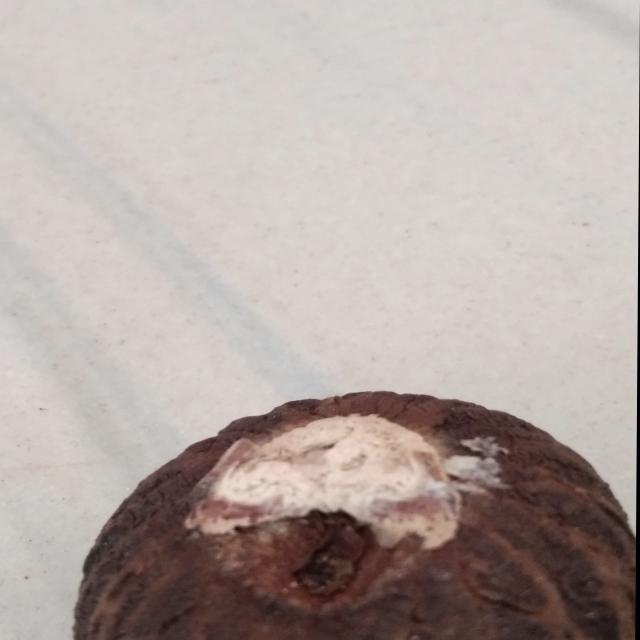karigot: (42, 353, 637, 640)
